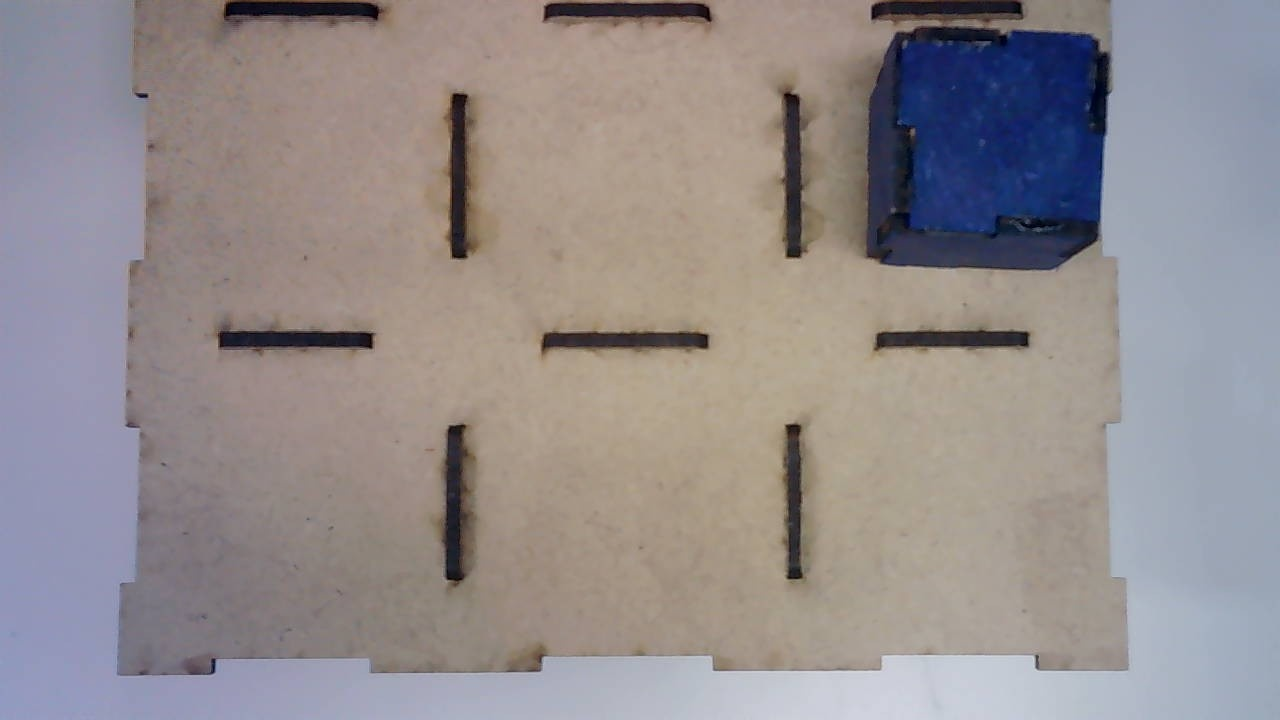blue box: (864, 28, 1106, 268)
